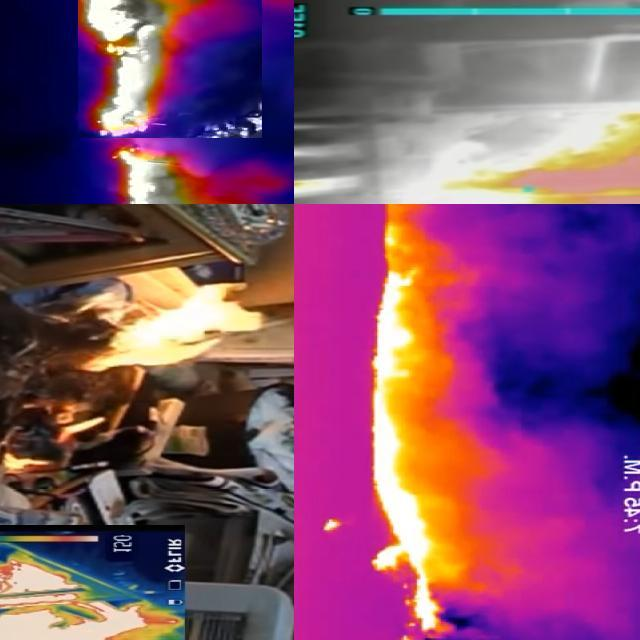fire: (321, 205, 501, 640), (421, 52, 640, 205), (79, 1, 263, 138), (115, 147, 237, 205)
